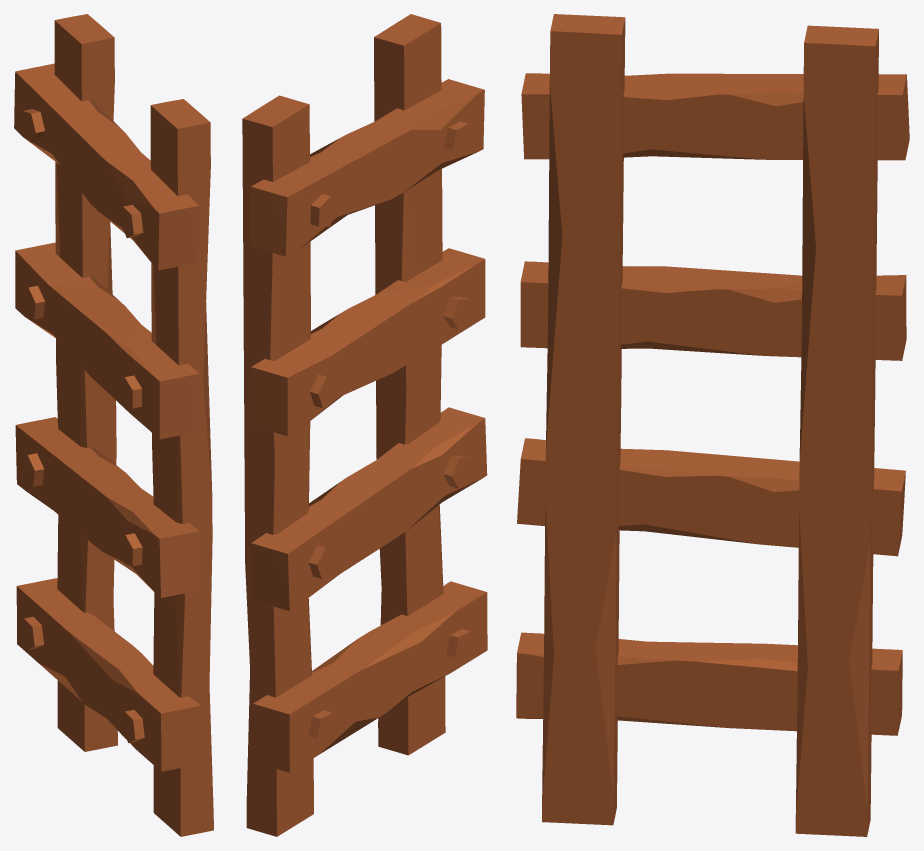
Rendered from ladder.fbx.
3 views of the same model, side by side, from view 1: azimuth 30°, elevation 25°; view 2: azimuth 150°, elevation 25°; view 3: azimuth 270°, elevation 25° (orthographic). The views are drawn at different scales.
Parts seen in each view (by area): view 1: 柱体.036; view 2: 柱体.036; view 3: 柱体.036.
Boxes of the visible parts, x1,y1,x2,y2 form: 柱体.036: (14,14,213,836); 柱体.036: (242,14,487,836); 柱体.036: (516,14,909,836).
Bounding box in the file's own units: 444 × 132 × 988.
